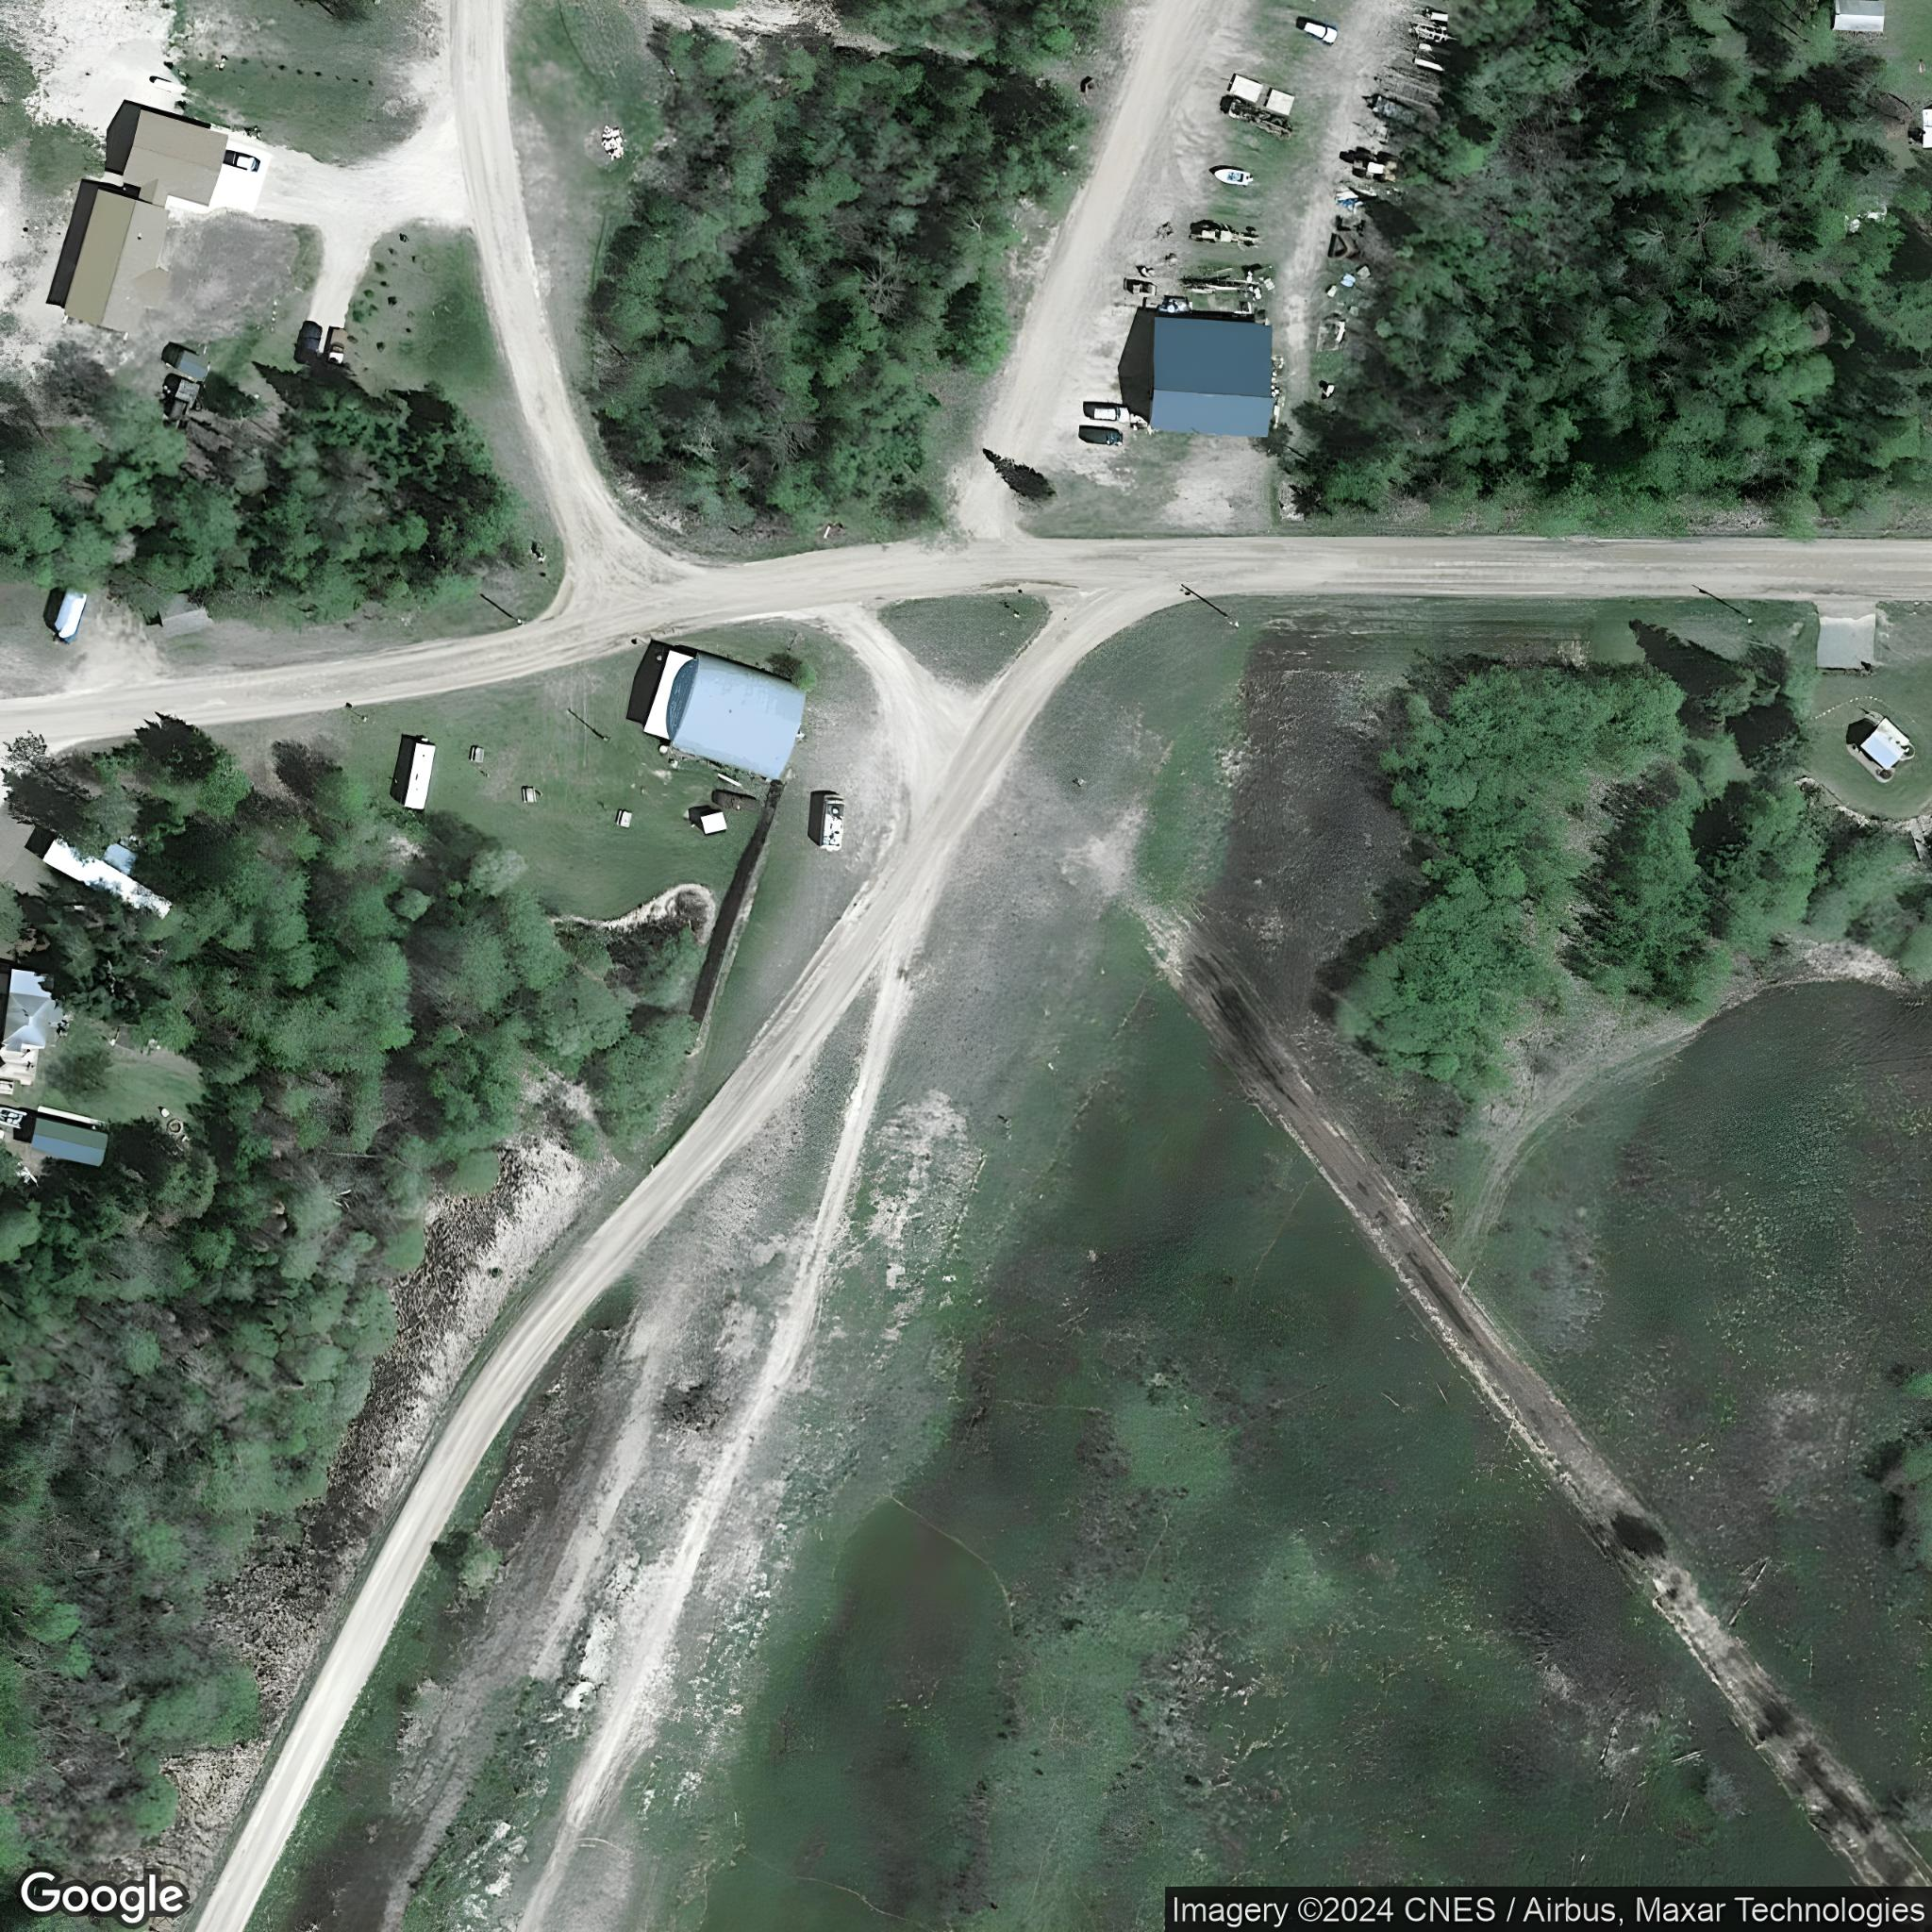Garage: (663, 649, 805, 780), (1148, 317, 1272, 437), (28, 1116, 110, 1168), (154, 589, 212, 642)
House: (60, 111, 228, 334), (2, 968, 64, 1051), (1859, 715, 1914, 773), (1833, 0, 1884, 34), (1921, 108, 1932, 150)
Propane: (34, 1102, 92, 1125), (147, 73, 179, 94)
Trailer: (41, 835, 173, 925), (402, 736, 437, 812)
